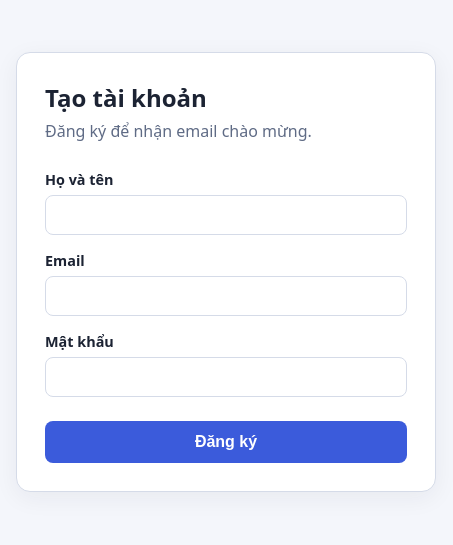
Scenario: App (form đăng ký) › F-06 máy chủ trả 400 kèm errors: hiển thị tất cả lỗi
In the field labelled "Họ và tên": (226, 215) [45,195,407,235], type "Nguyen Van A"
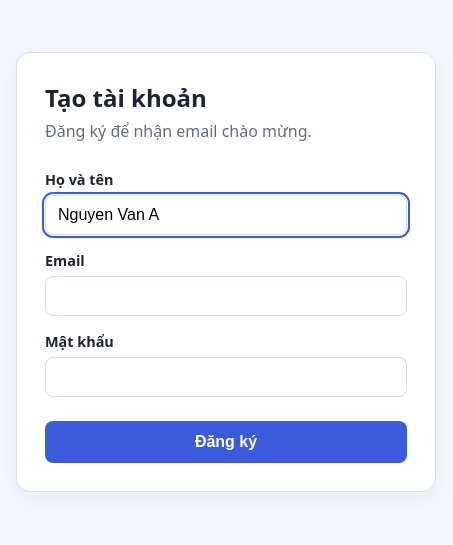
In the field labelled "Email": (226, 296) [45,276,407,316], type "a@example.com"
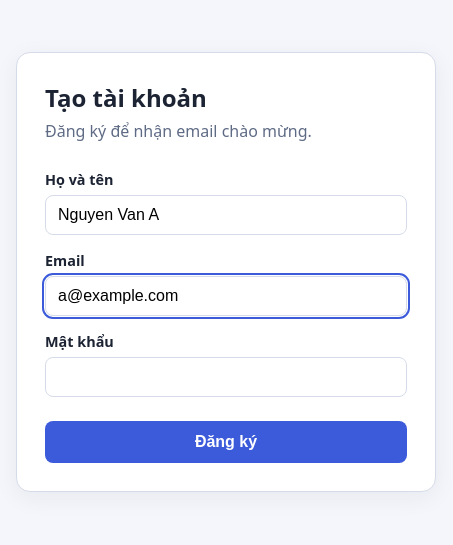
In the password field labelled "Mật khẩu": (226, 377) [45,357,407,397], type "secret123"
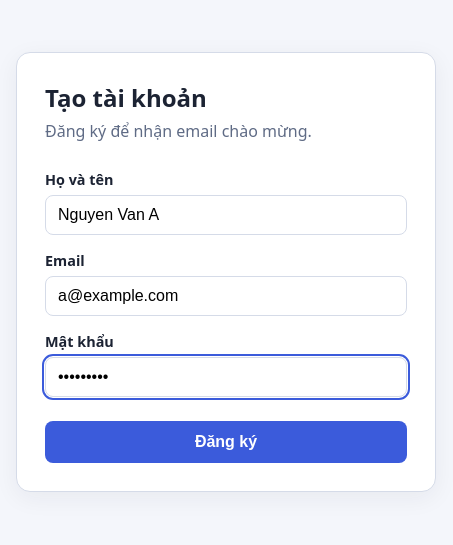
Click the button "Đăng ký": click(226, 442) [45,421,407,463]
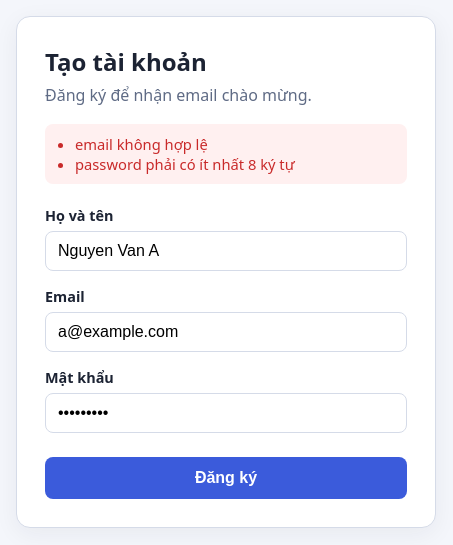
Expected: the message shows "email không hợp lệ", [75,134,208,154]
Expected: the message shows "password phải có ít nhất 8 ký tự", [75,154,295,174]
